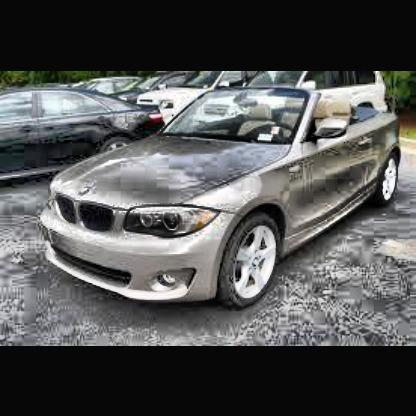BMW 1 Series Convertible 2012: (45, 88, 406, 311)
